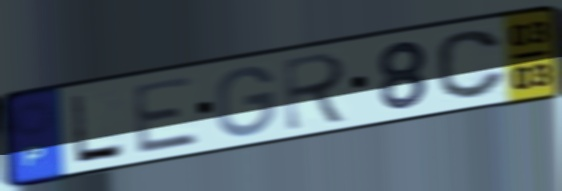8: (375, 39, 431, 112)
C: (433, 27, 510, 102)
E: (129, 72, 203, 157)
G: (214, 63, 278, 139)
L: (67, 91, 129, 166)
R: (281, 49, 351, 134)
